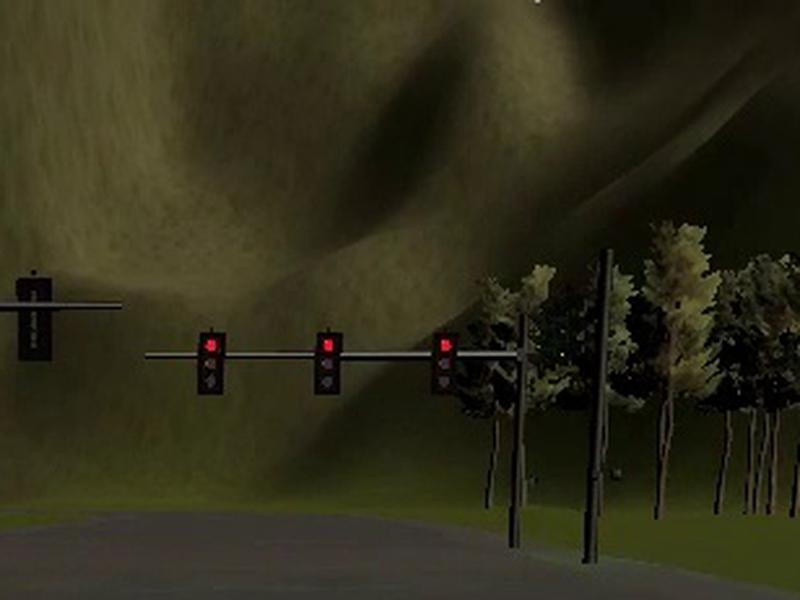Red: (196, 331, 228, 396), (313, 332, 344, 395), (431, 332, 458, 395)
